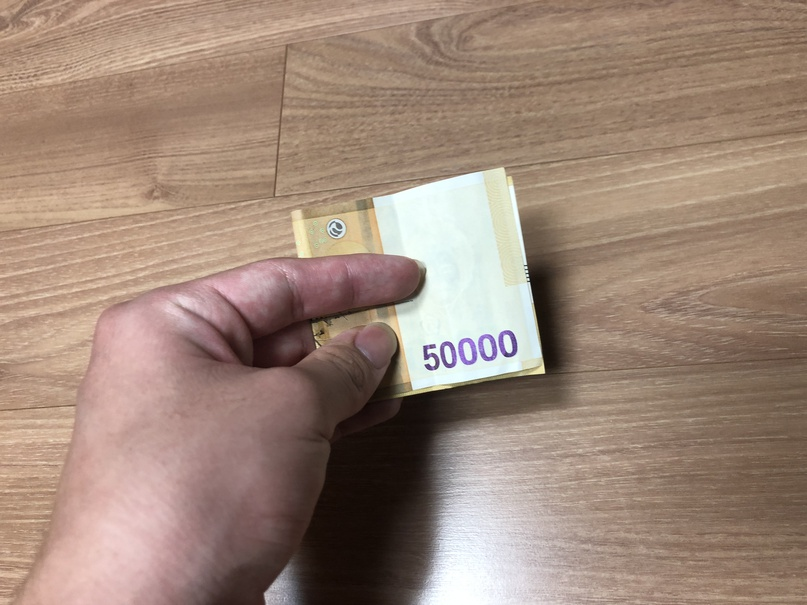50000won: (290, 167, 546, 403)
